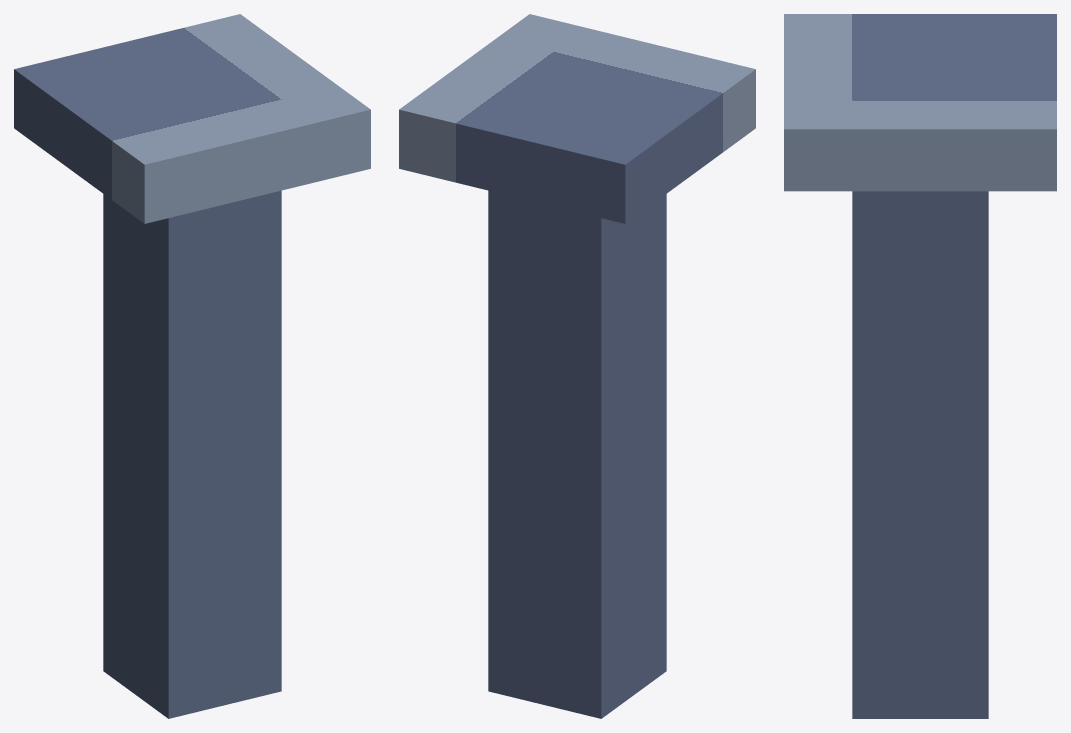
File: Nail.fbx
3 renders of one model, left to right at view 1: azimuth 30°, elevation 25°; view 2: azimuth 150°, elevation 25°; view 3: azimuth 270°, elevation 25°, orthographic. The views are drawn at different scales.
Parts seen in each view (by area): view 1: Nail; view 2: Nail; view 3: Nail.
Part boxes in pixels (<box>): Nail: <box>14,14,370,718</box>; Nail: <box>399,14,755,718</box>; Nail: <box>784,14,1056,718</box>.
Size of the model in its own units: 4 by 10 by 4.
Materials: 1 (1 with a texture image).
